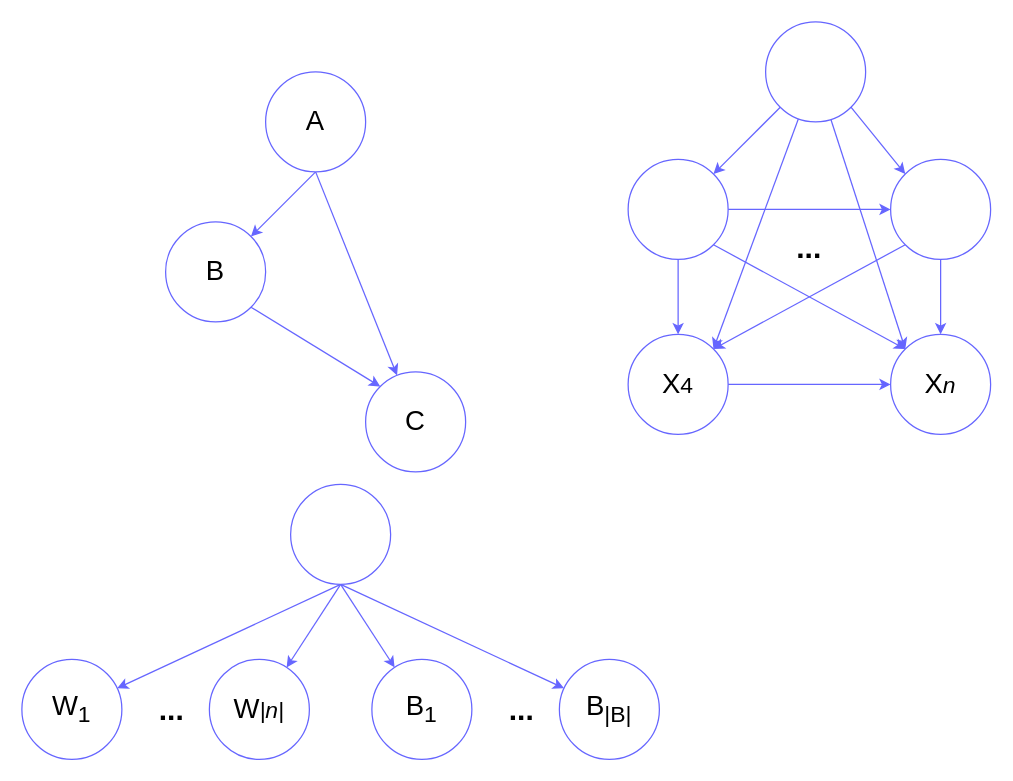
This 1013x781 diagram has some shape labels left out. Here are the shapes that lost their labels. From the top down, the centre of each, then its label:
At (815,71): "X 1".
At (677,208): "X 2".
At (940,208): "X 3".
At (340,533): "Spam".
